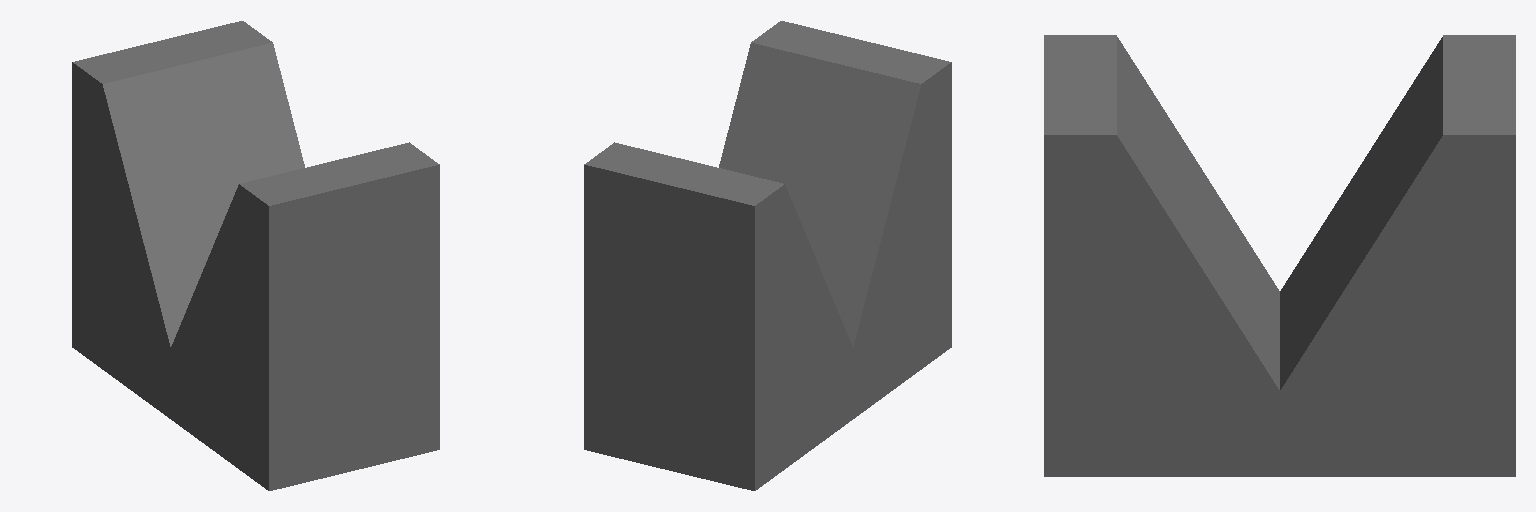
robot.urdf — triangle_bottom:
<robot name="triangle_bottom">
<link name="triangle_bottom">
<visual>
<origin xyz="0 2.7755575615628913511e-17 -0.64974049613800033409" rpy="0 -0 0" />
<geometry>
<mesh filename="separated_wall_shapes/triangle_bottom.obj"/>
</geometry>
<material name="triangle_bottom_material">
<color rgba="0.49803921568627451677 0.49803921568627451677 0.49803921568627451677 1.0"/>
</material>
</visual>
<collision>
<origin xyz="0 2.7755575615628913511e-17 -0.64974049613800033409" rpy="0 -0 0" />
<geometry>
<mesh filename="separated_wall_shapes/triangle_bottom.obj"/>
</geometry>
</collision>
<inertial>
<origin xyz="0 0 0" rpy="0 0 0"/>
<mass value="100" />
<inertia ixx="0" ixy="0"  ixz="0" iyy="0" iyz="0" izz="0" />
</inertial>
</link>


</robot>

--- Render facts (derived) ---
Views: 3 orthographic renders of the robot side by side, from view 1: azimuth 30°, elevation 25°; view 2: azimuth 150°, elevation 25°; view 3: azimuth 270°, elevation 25°.
Robot: triangle_bottom — 1 links, 0 joints (none); root link triangle_bottom; default pose: every joint at zero.
Visible links, largest first — view 1: triangle_bottom; view 2: triangle_bottom; view 3: triangle_bottom.
Link boxes in pixels (x1,y1,x2,y2): triangle_bottom: (72,21,439,490); triangle_bottom: (584,21,951,490); triangle_bottom: (1044,35,1515,476).
Size in the robot's own frame: 0.25 by 0.5 by 0.4 metres.
Meshes: 1 distinct files referenced, 1 mesh visuals loaded (1 OBJ).